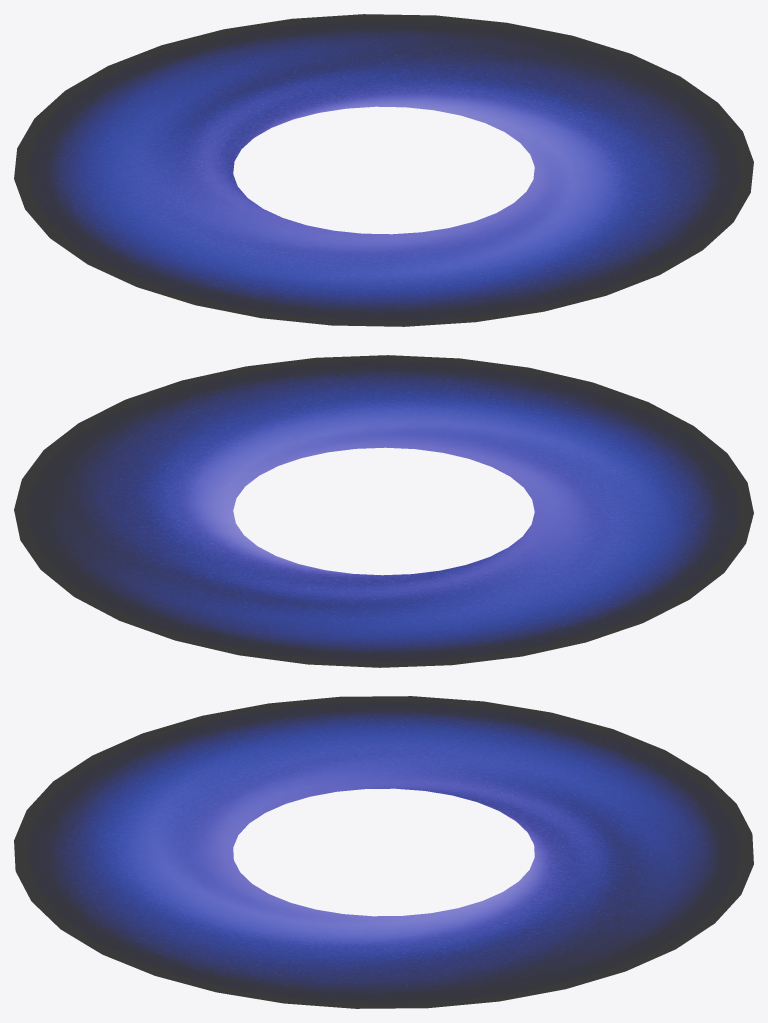
Rendered from VortexOuter.fbx.
3 views of the same model, one above another, from view 1: azimuth 30°, elevation 25°; view 2: azimuth 150°, elevation 25°; view 3: azimuth 270°, elevation 25° (orthographic).
Visible parts, largest first — view 1: VortexOuterlayer; view 2: VortexOuterlayer; view 3: VortexOuterlayer.
Part boxes in pixels (box(x1,y1,x2,y2)): VortexOuterlayer: box(14, 14, 753, 326); VortexOuterlayer: box(14, 355, 753, 667); VortexOuterlayer: box(14, 696, 753, 1008).
Bounding box in the file's own units: 588 × 9.58e-05 × 588.
